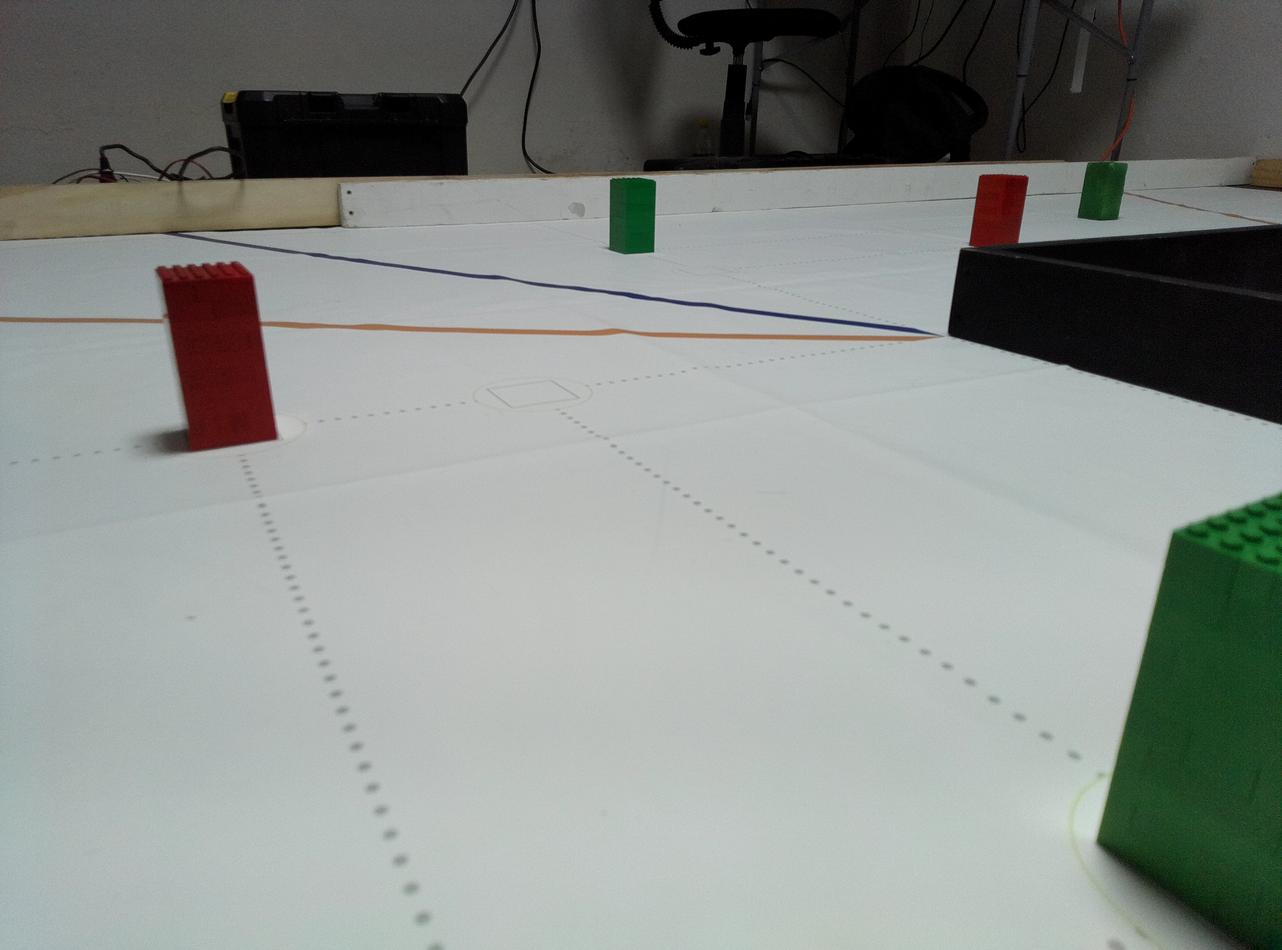greenbox: (1092, 489, 1280, 945), (609, 176, 657, 255), (1077, 160, 1129, 222)
redbox: (153, 262, 281, 454), (968, 173, 1030, 248)
